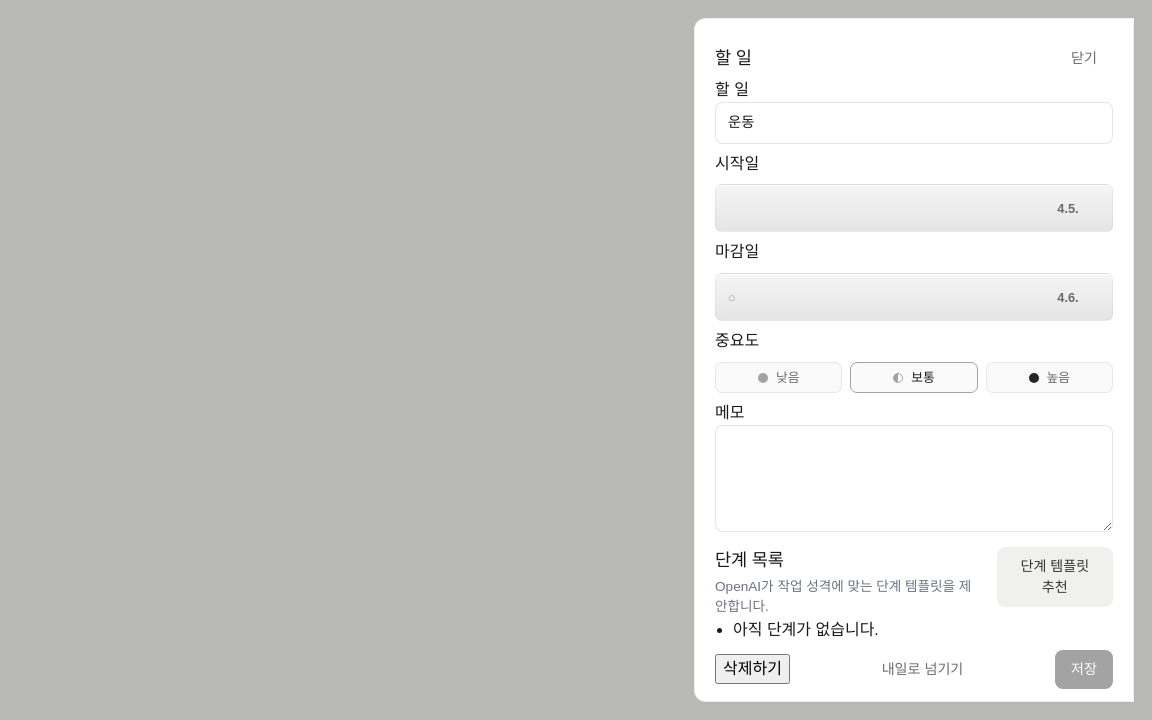
TaskDetailPanel › fetches AI step templates and fills the step list
The width and height of the screenshot is (1152, 720).
Click the button "단계 템플릿 추천" at (1055, 577), box [997, 547, 1113, 607]
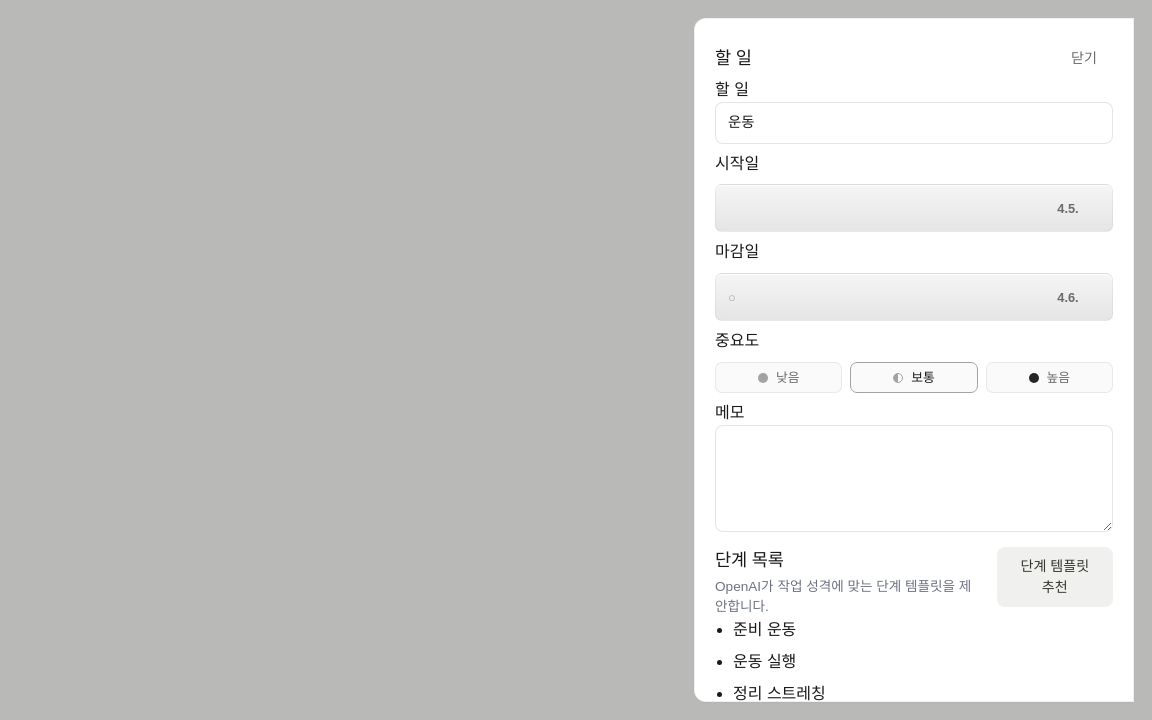
expect the list item "준비 운동" is shown: met, box [733, 621, 796, 638]
expect the list item "운동 실행" is shown: met, box [733, 653, 796, 670]
expect the list item "정리 스트레칭" is shown: met, box [733, 685, 826, 702]
